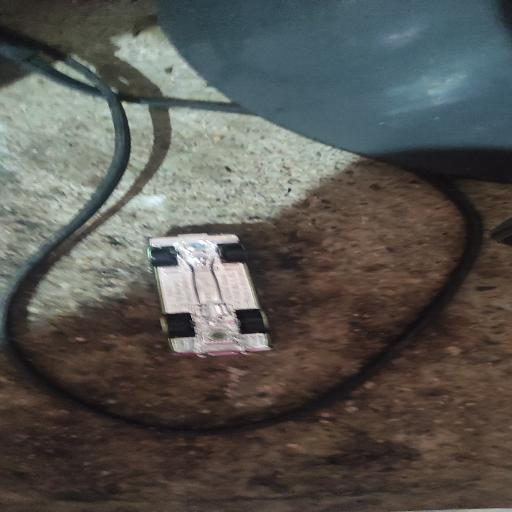Carrito: (148, 233, 271, 357)
